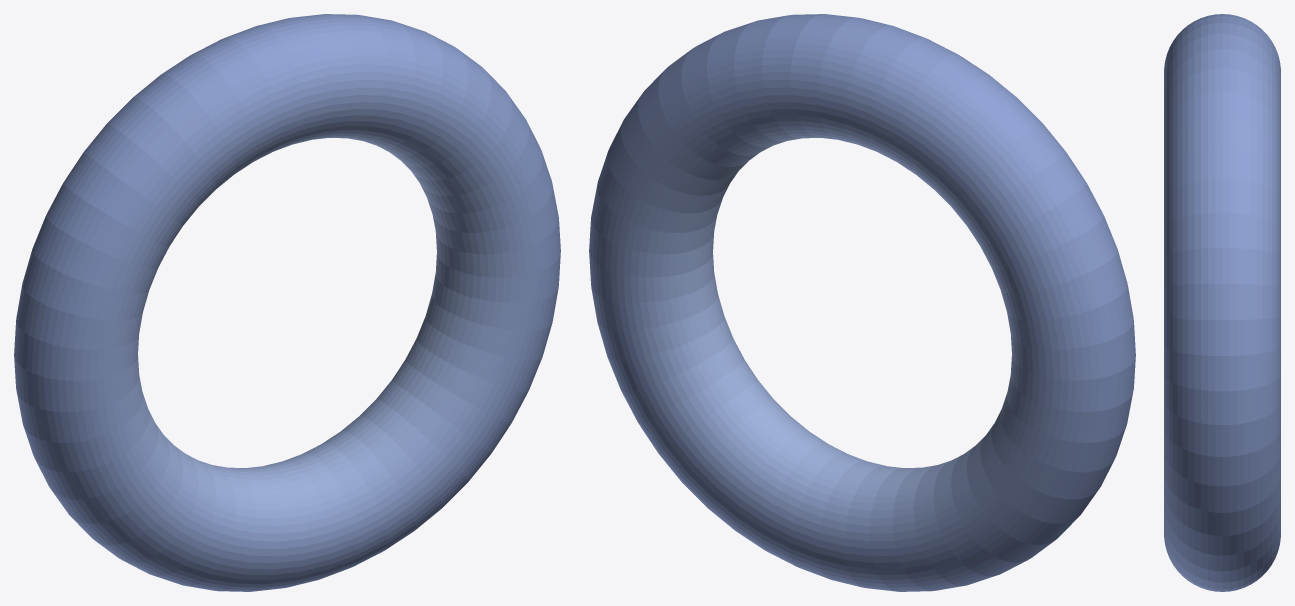
3 views of the same model, side by side, from view 1: azimuth 30°, elevation 25°; view 2: azimuth 150°, elevation 25°; view 3: azimuth 270°, elevation 25° (orthographic). The views are drawn at different scales.
Parts seen in each view (by area): view 1: world; view 2: world; view 3: world.
Boxes of the visible parts, bbox=[...] form: world: bbox=[14, 14, 560, 591]; world: bbox=[589, 14, 1135, 591]; world: bbox=[1164, 14, 1280, 591].
Bounding box in the file's own units: 21.73 × 21.69 × 4.39.
